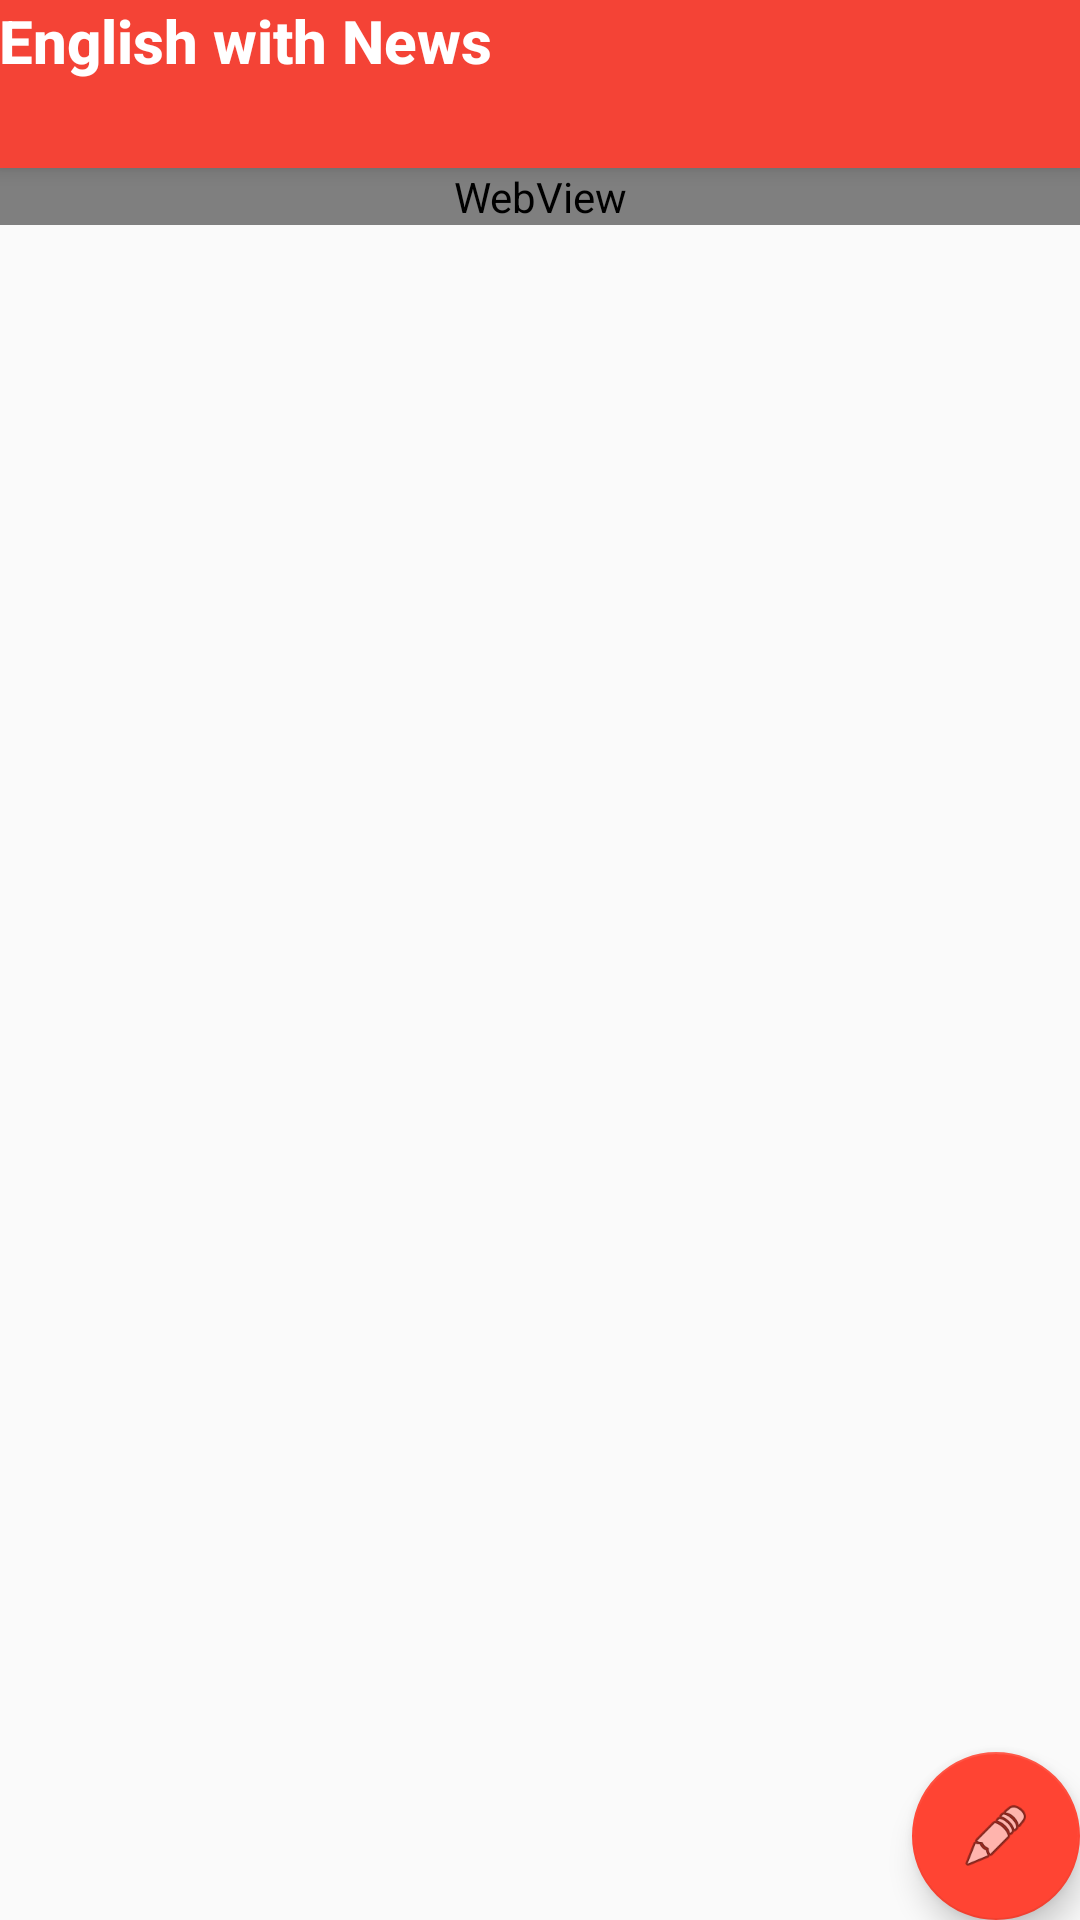

Locate icon controls on the screen. Image size 1080×1920, boxes as bbox(x1, y1, x2, y2).
edit: bbox(912, 1752, 1080, 1920)
